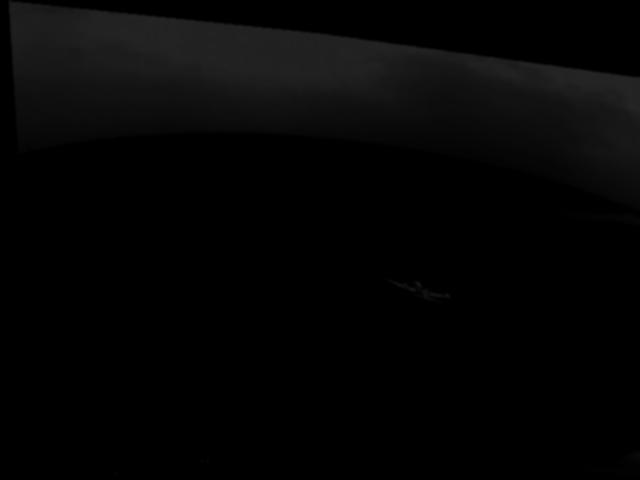hedef: (373, 264, 452, 300)
